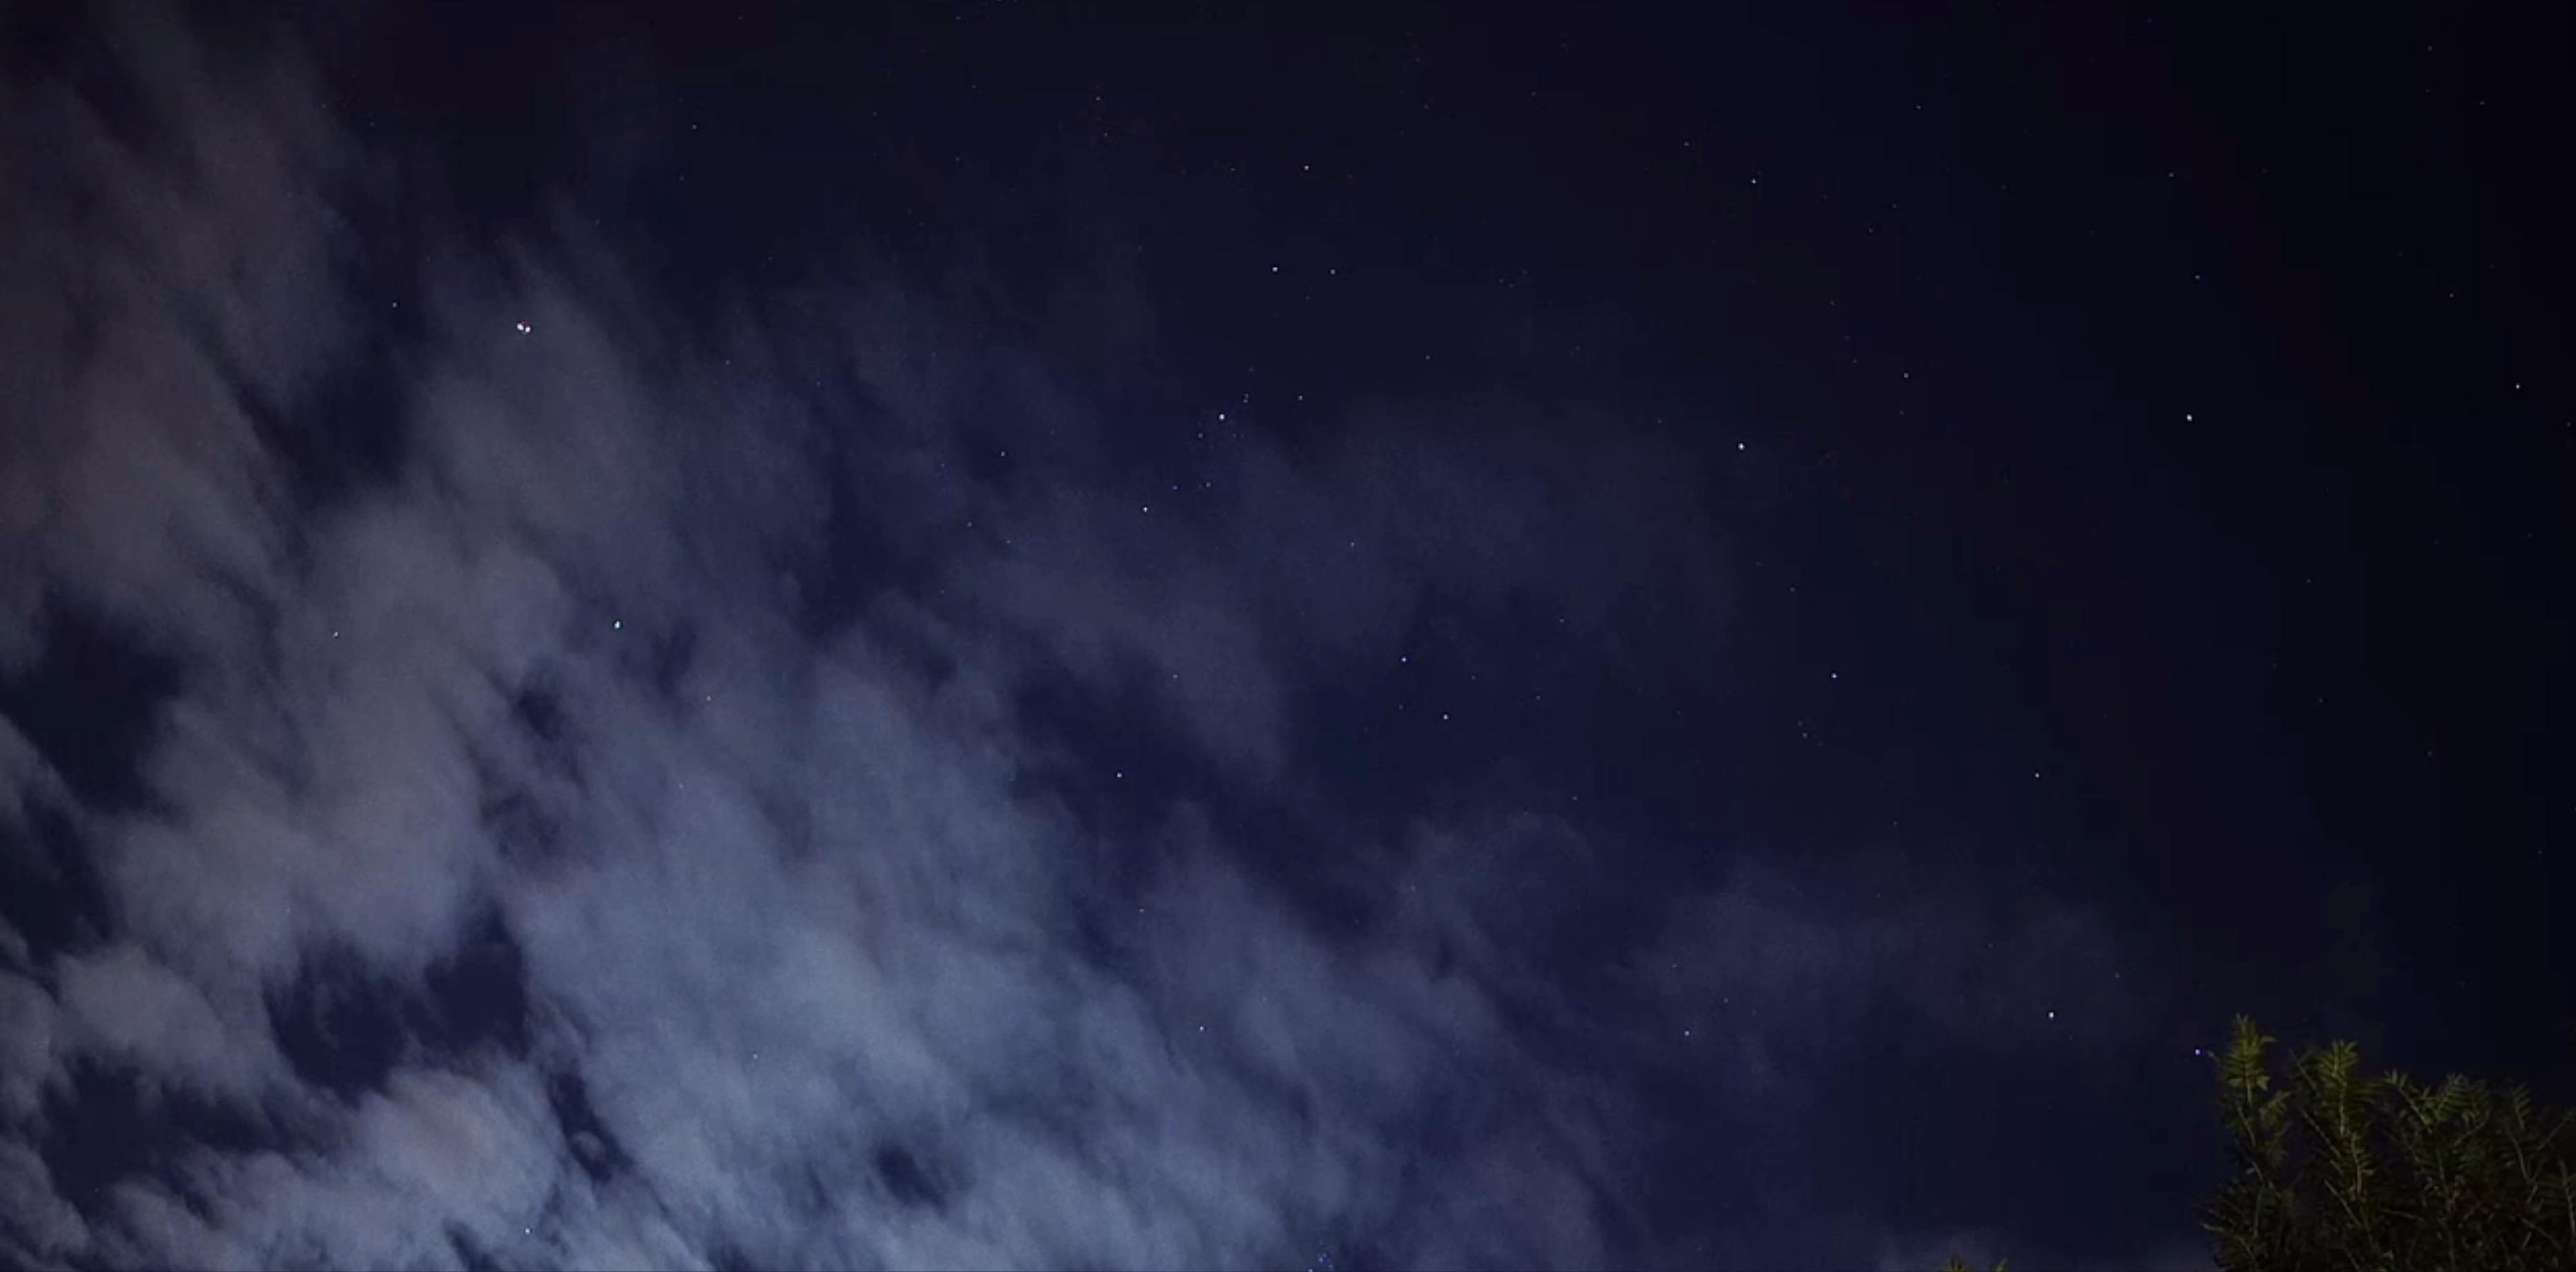Plane: (503, 301, 534, 339)
